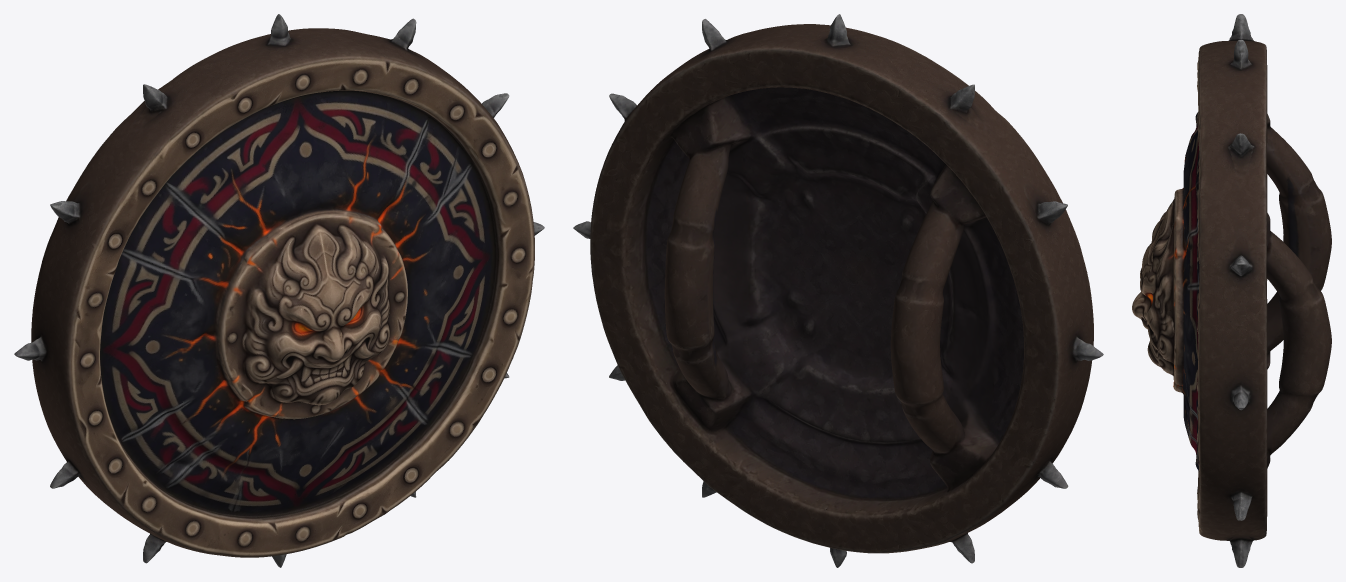
File: Meshy_AI_Molten_Oni_Aegis_20261114_texture.fbx
3 views of the same model, side by side, from view 1: azimuth 30°, elevation 25°; view 2: azimuth 150°, elevation 25°; view 3: azimuth 270°, elevation 25° (orthographic). The views are drawn at different scales.
Visible parts, largest first — view 1: Mesh_0; view 2: Mesh_0; view 3: Mesh_0.
Part boxes in pixels (bbox=[...]): Mesh_0: bbox=[14, 14, 544, 567]; Mesh_0: bbox=[573, 14, 1103, 567]; Mesh_0: bbox=[1132, 14, 1331, 567].
Size of the model in its own units: 190 by 190 by 68.46.
Materials: 1 (1 with a texture image).
